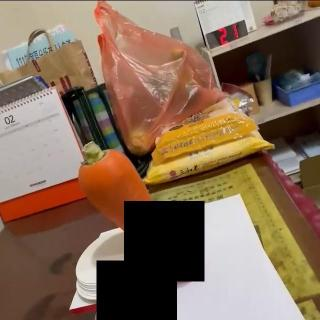carrot: (78, 141, 198, 281)
